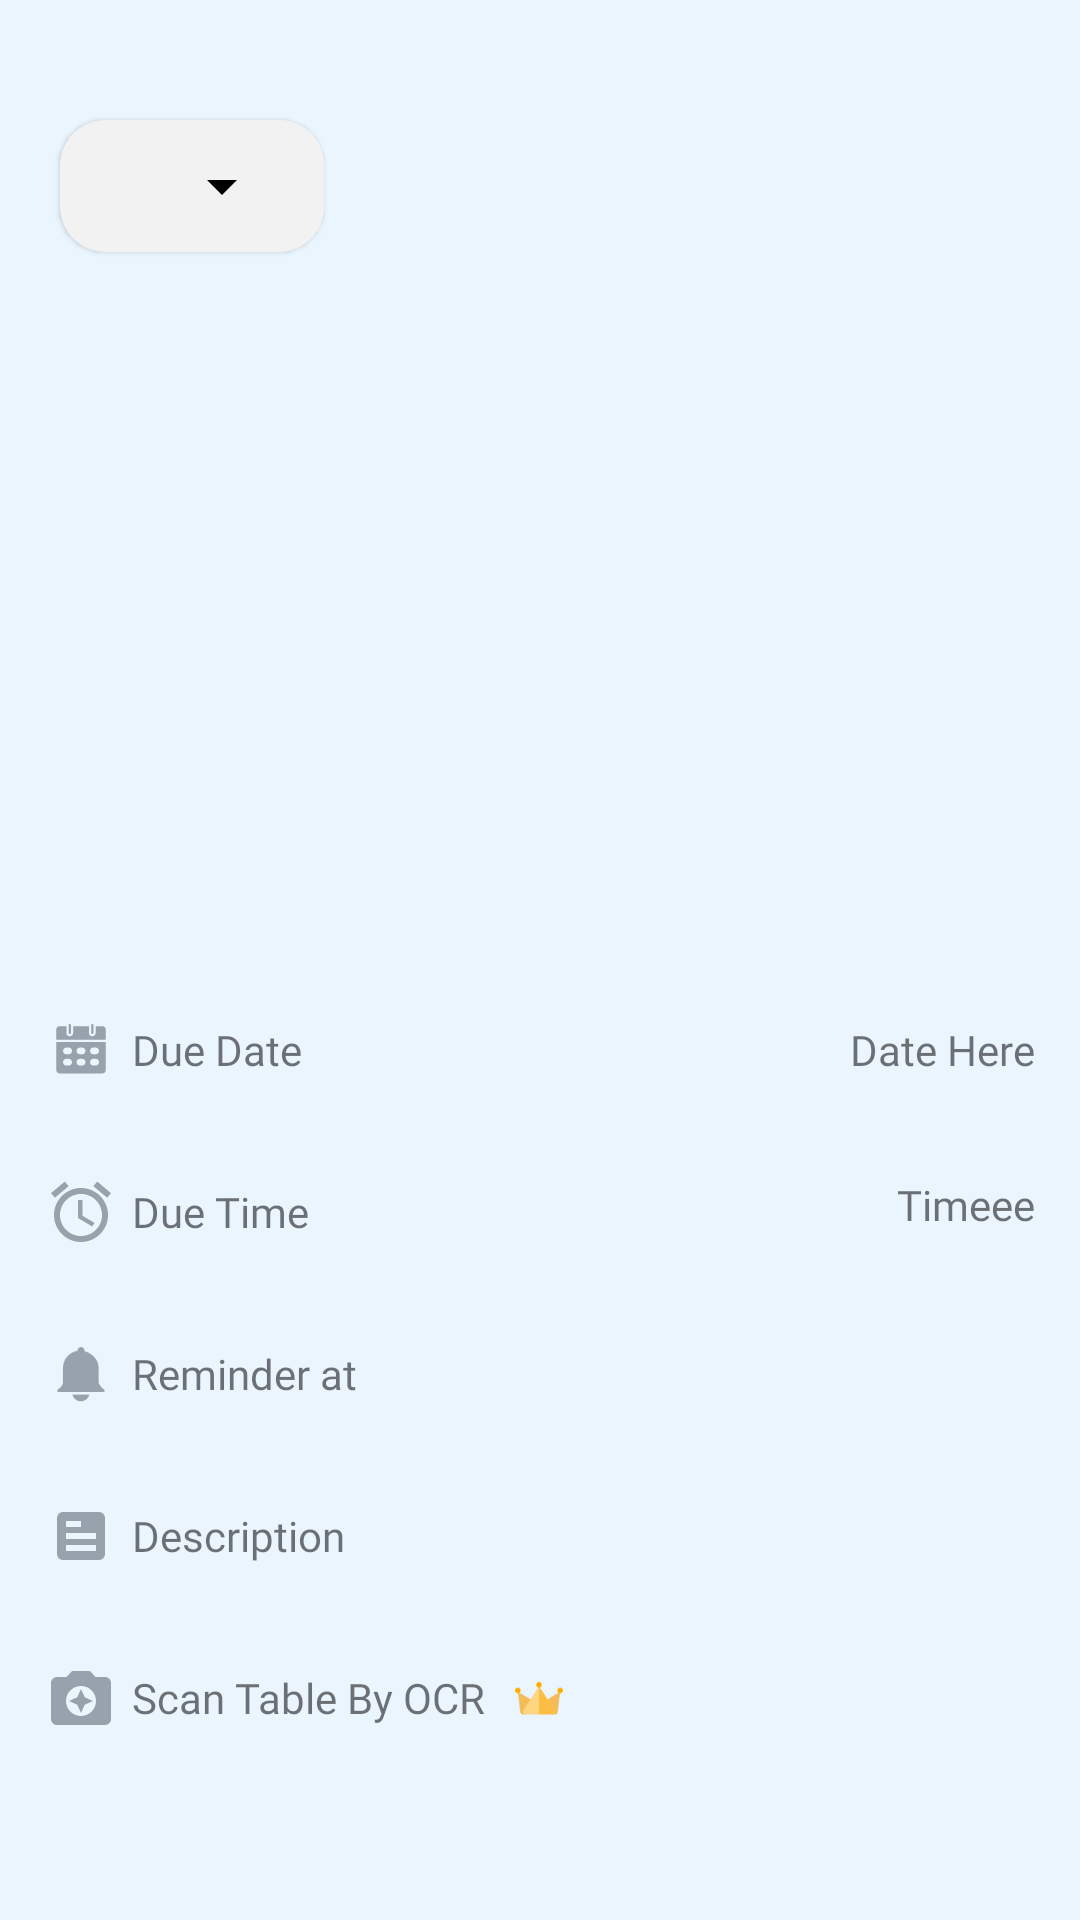

Icons on this 1080×1920 Android screen, each with the point to tap as point (x, y):
access alarm: point (81, 1212)
camera enhance: point (81, 1698)
due reminder: point (81, 1374)
notes: point (81, 1536)
task create calendar: point (81, 1049)
vip: point (539, 1698)
